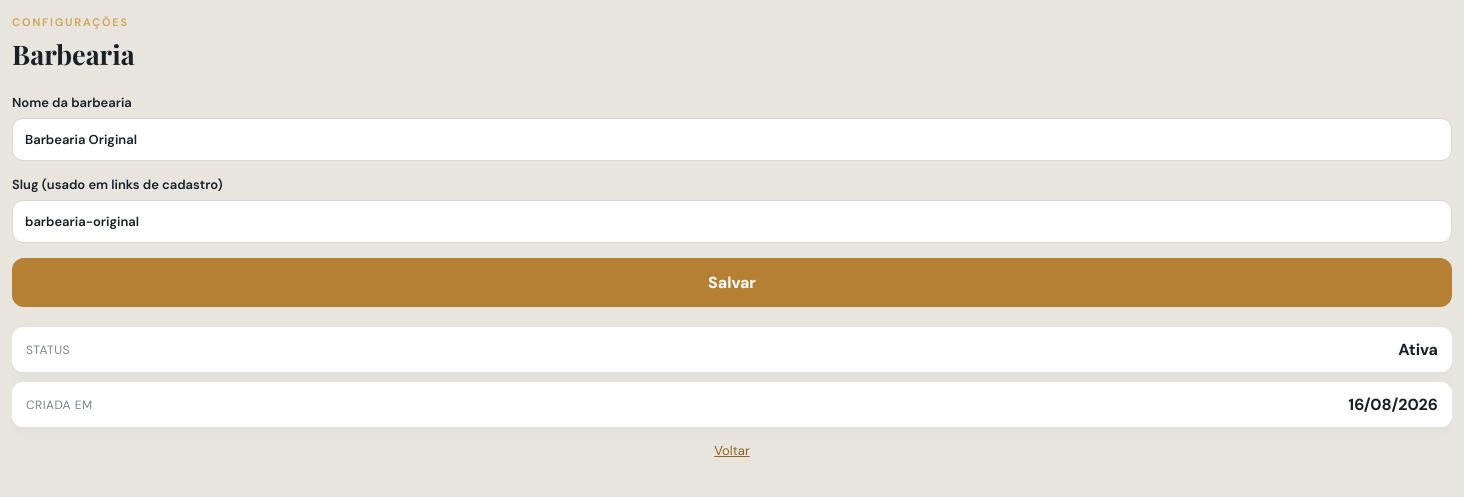
TenantAccount › checks availability when the name changes
This screenshot has width=1464, height=497.
Type " Filial" into the field labelled "Nome da barbearia" at (732, 140), box [12, 118, 1452, 161]
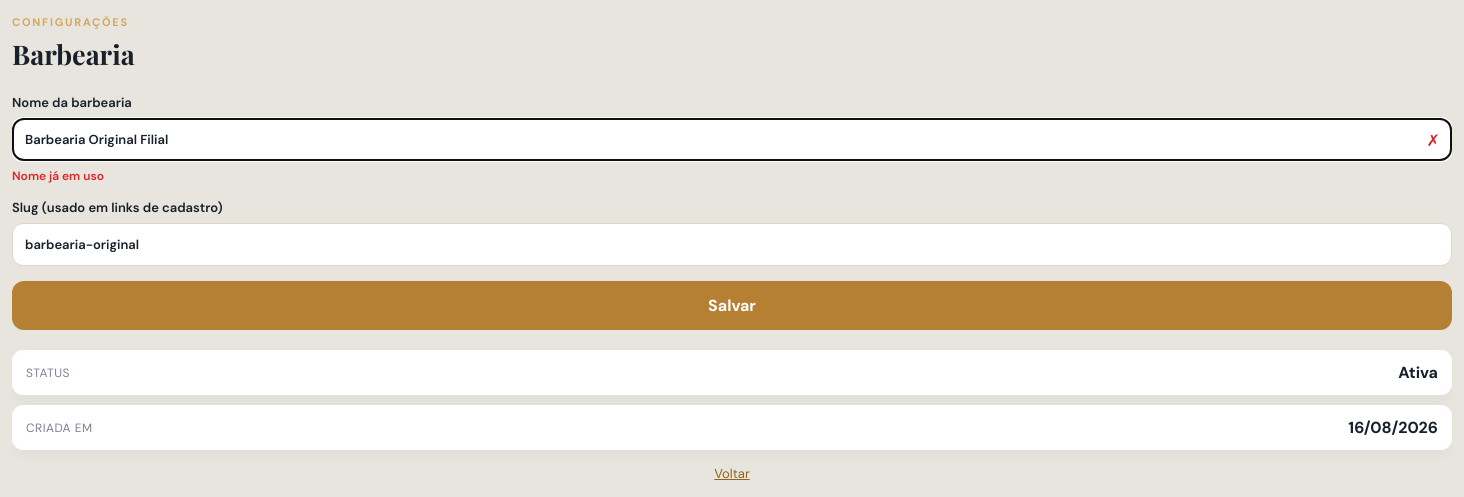
Check: the text "Nome já em uso" is shown, box [12, 168, 104, 184]
